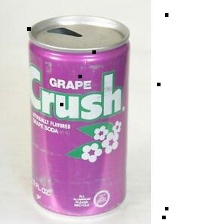can: (22, 12, 135, 220)
